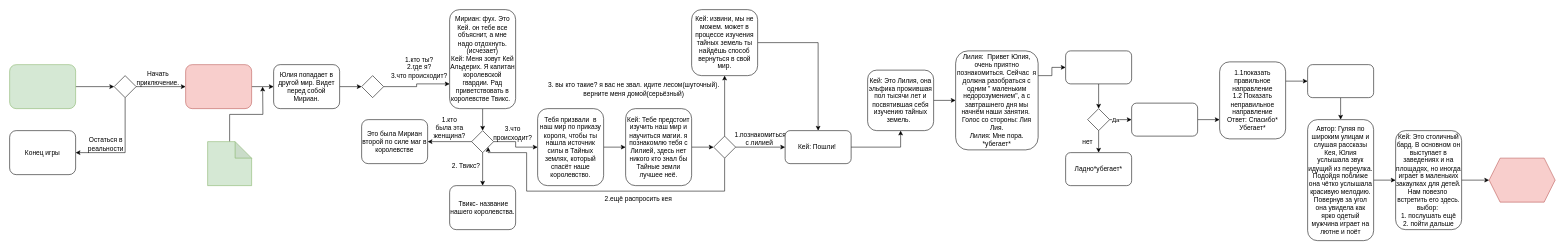
The diagram is 1565 pixels wide and 250 high, and some of its shapes have lost their labels. The shapes that lost their labels are listed below. From the top down, each one's centre as x and y in pixels, then its label:
pixel 42 86: Старт: Ночь перед экзаменами
pixel 218 86: Появляется Кей и проводит Юлю в другой мир
pixel 1098 67: Бо: Вы не видели тут Эльфийку?
pixel 1340 81: Кей: Пошли я пока покажу тебе город.
pixel 1164 119: Бо: Куда она пошла?
pixel 229 163: Начало второй сцены
pixel 1522 180: Конец второй сцены
